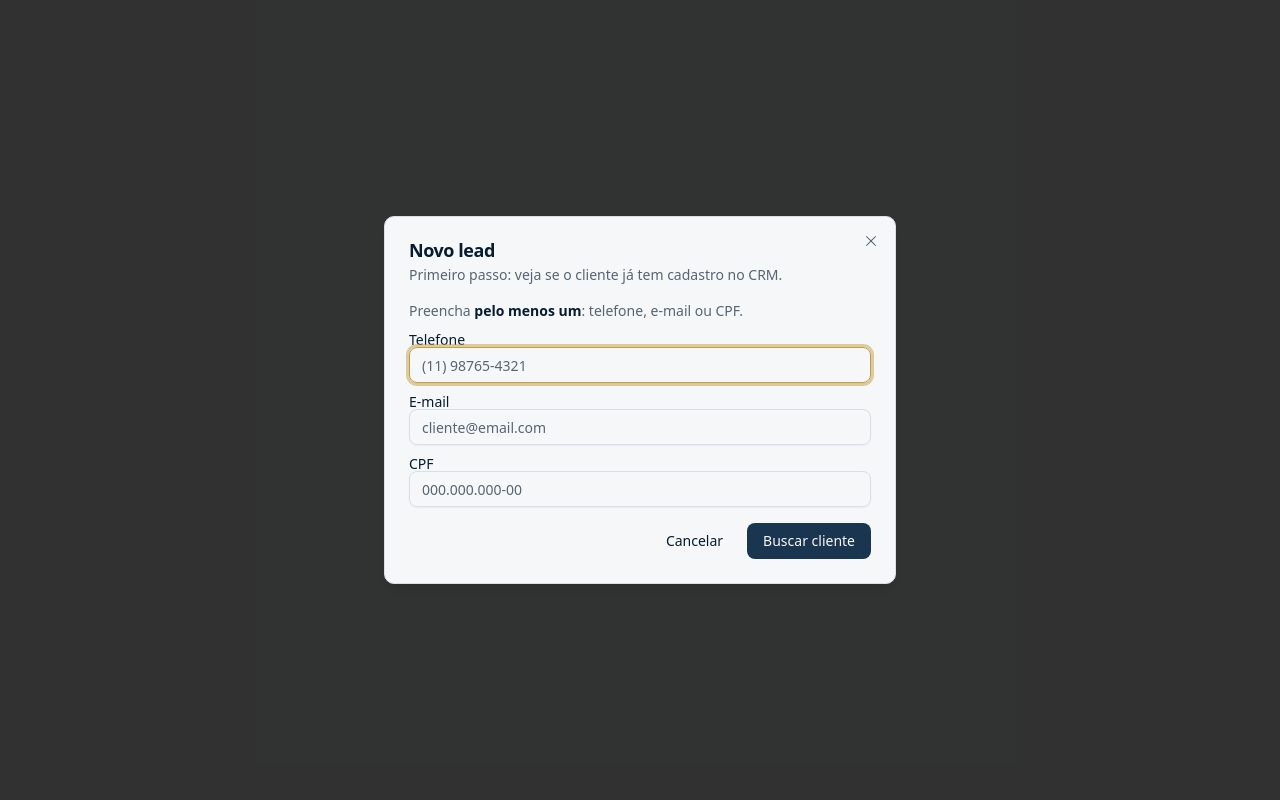
Scenario: Novo lead do corretor: a busca vem primeiro › telefone acusado em outra carteira na criação: volta à busca e mostra o cliente
The width and height of the screenshot is (1280, 800).
In the field labelled "Telefone": {"x": 640, "y": 365} top-left (409, 347), bottom-right (871, 383), type "11987654321"
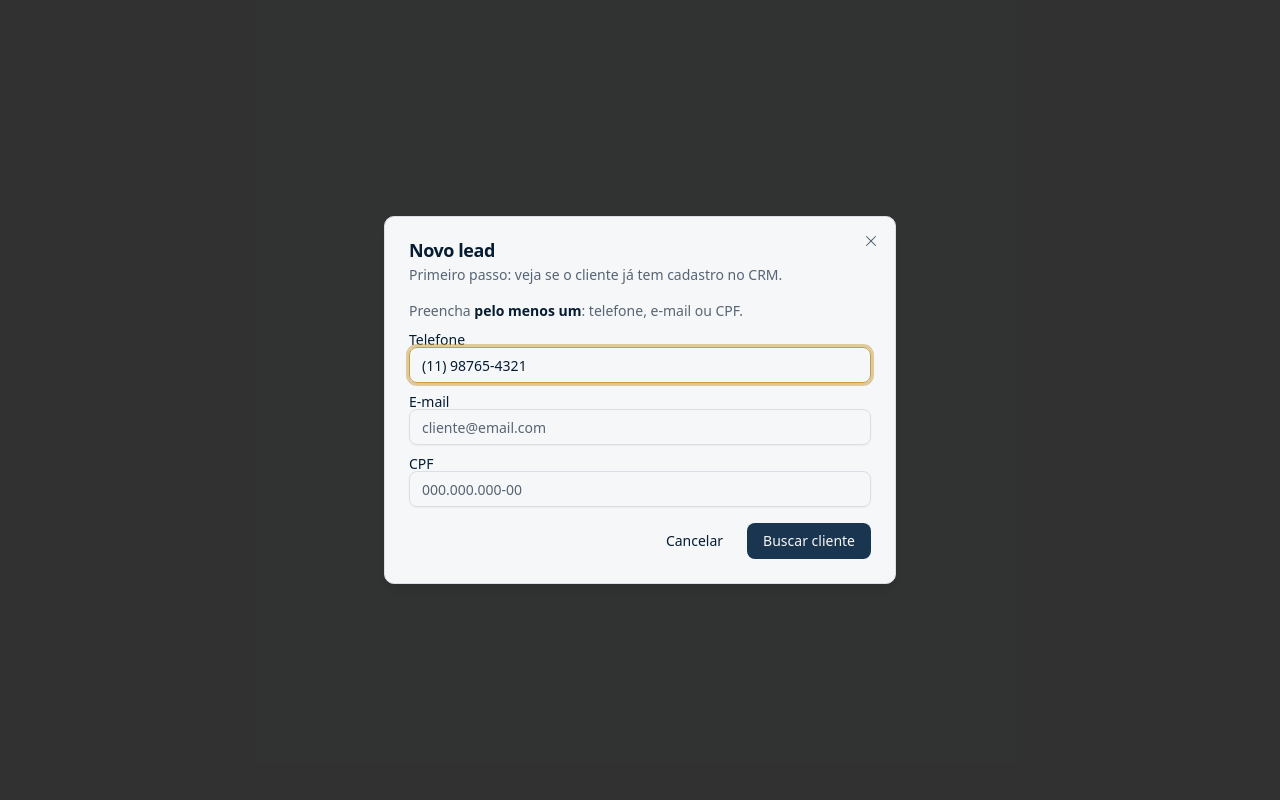
Click the button "Buscar cliente": {"x": 809, "y": 541} top-left (747, 523), bottom-right (871, 559)
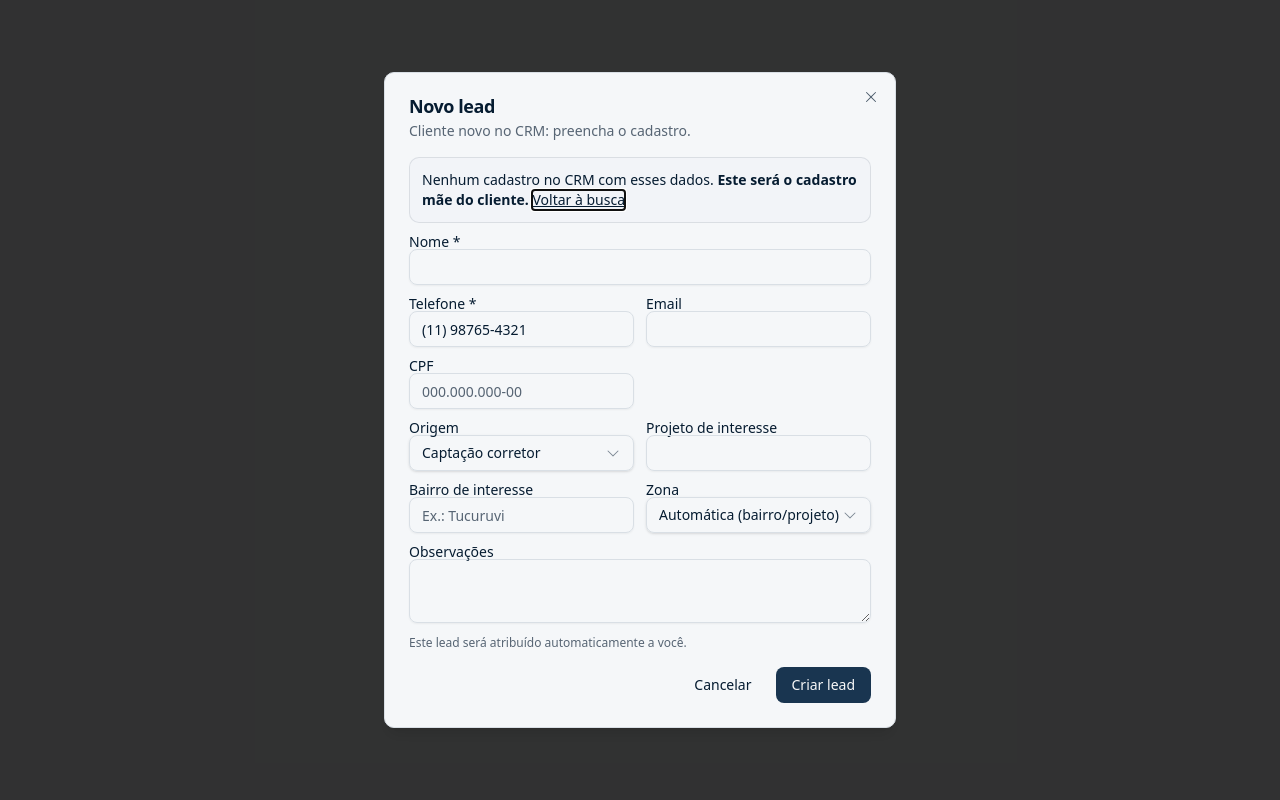
Check: the message with test id "cadastro-mae" is shown, box top-left (409, 157), bottom-right (871, 223)
In the field below "Nome *": {"x": 640, "y": 267} top-left (409, 249), bottom-right (871, 285), type "Carla"
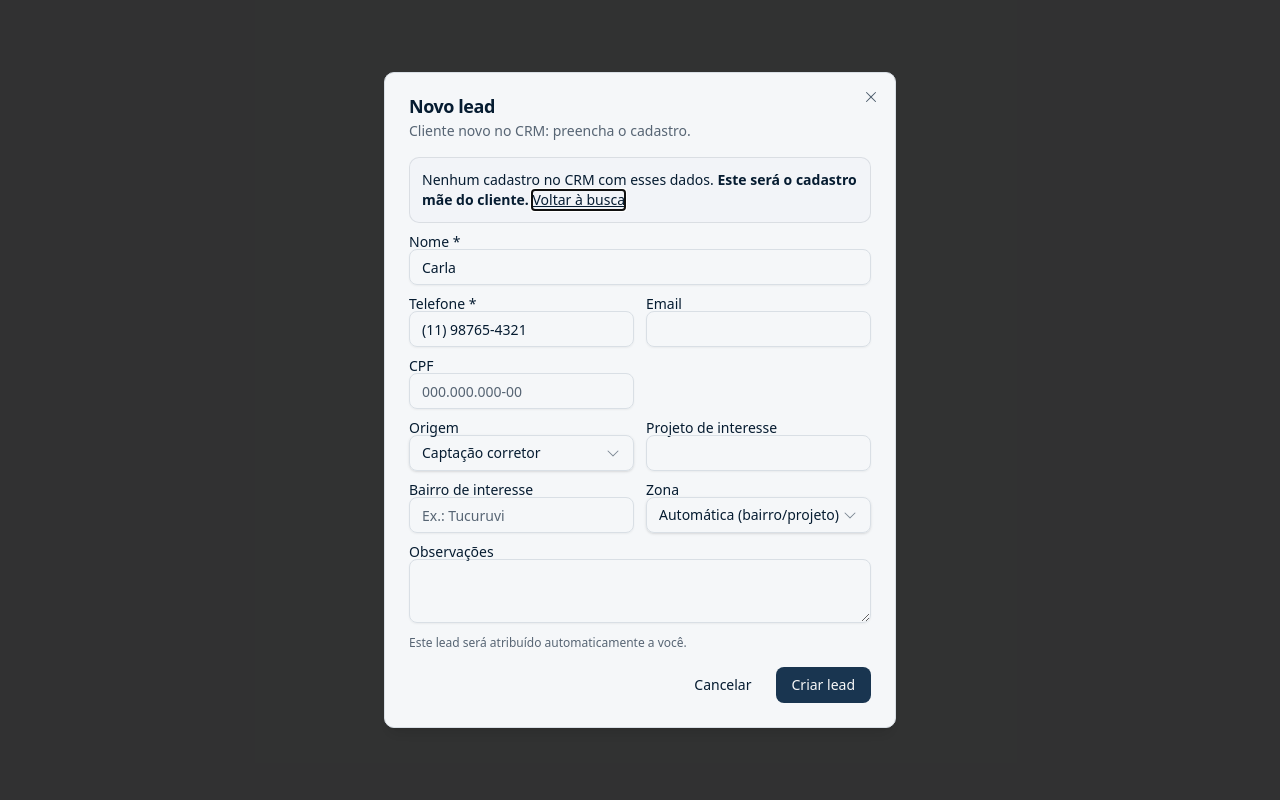
Click the button "Criar lead": {"x": 823, "y": 685} top-left (776, 667), bottom-right (871, 703)
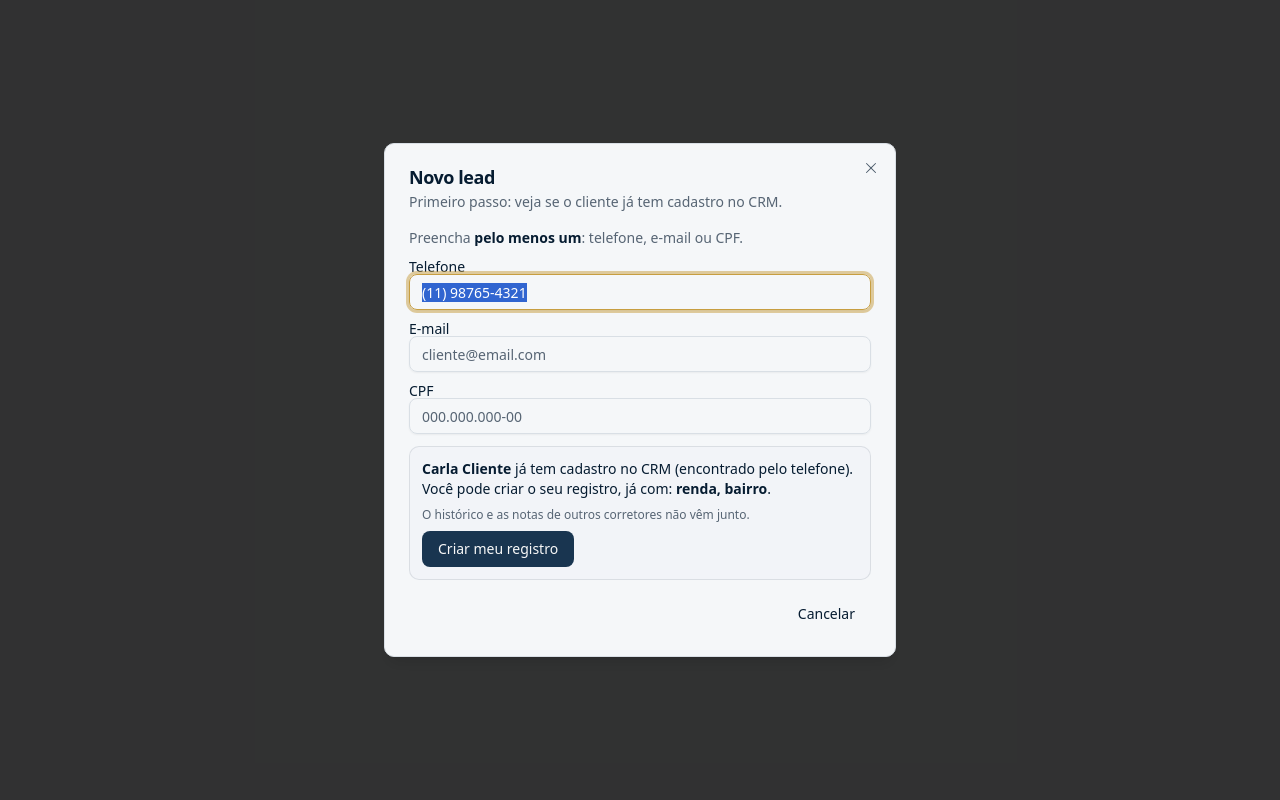
Check: the element with test id "oportunidade-disponivel" is shown, box top-left (409, 446), bottom-right (871, 580)
